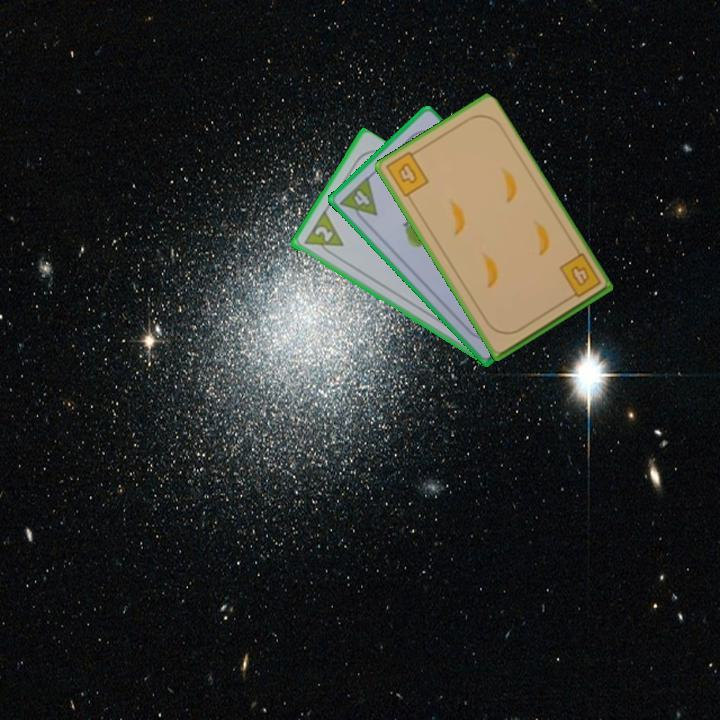2p: (311, 222, 336, 245)
4b: (382, 146, 431, 200), (555, 250, 604, 303)
4p: (336, 173, 380, 228)
